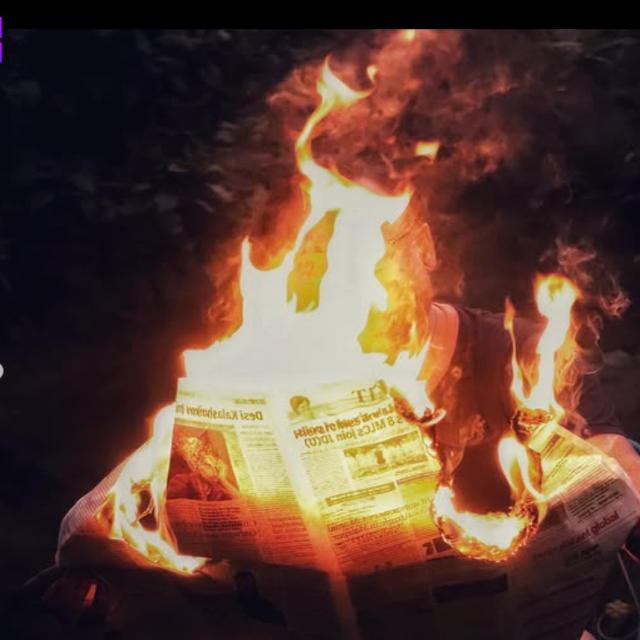fire: (106, 55, 445, 576), (430, 275, 614, 561)
